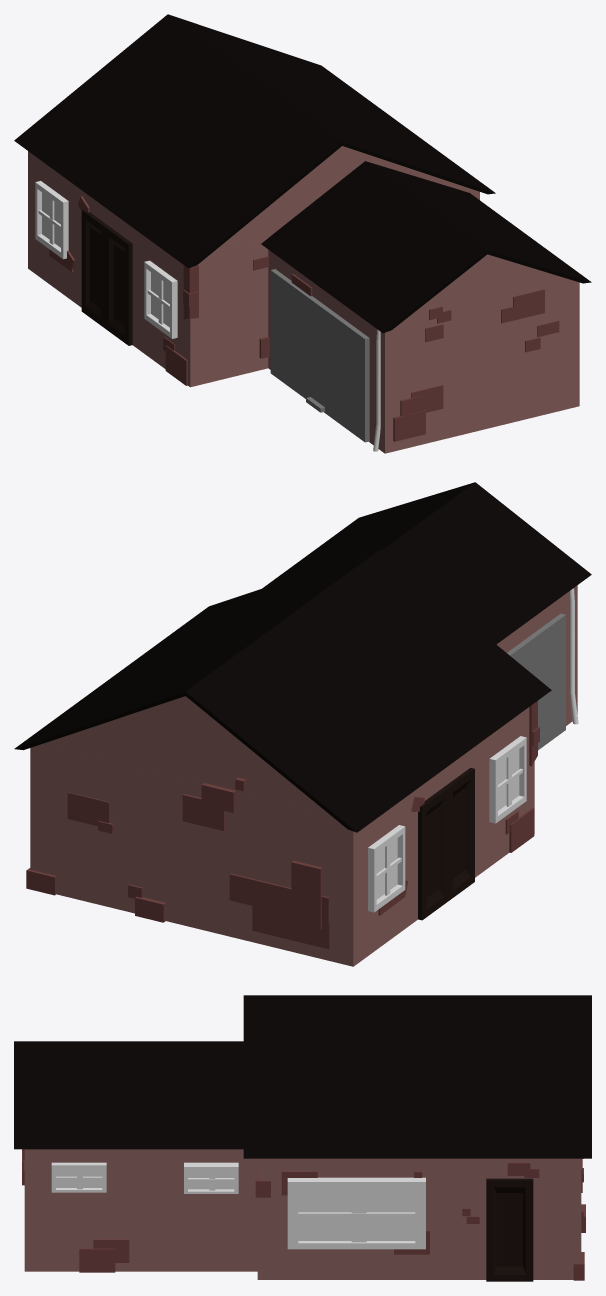
Rendered from house 1.fbx.
The picture shows the model from 3 angles, top to bottom: view 1: azimuth 30°, elevation 25°; view 2: azimuth 150°, elevation 25°; view 3: azimuth 270°, elevation 25°; orthographic projection. The views are drawn at different scales.
Visible parts, largest first — view 1: House; view 2: House; view 3: House.
Boxes of the visible parts, x1=… form: House: x1=14, y1=14, x2=591, y2=453; House: x1=14, y1=482, x2=591, y2=966; House: x1=14, y1=995, x2=591, y2=1281.
Bounding box in the file's own units: 786 × 525 × 1281.
